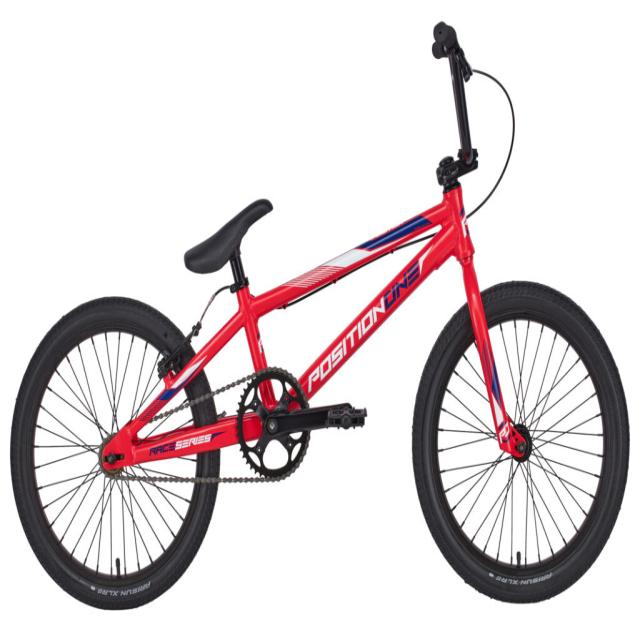bmx-bike: (10, 20, 628, 618)
